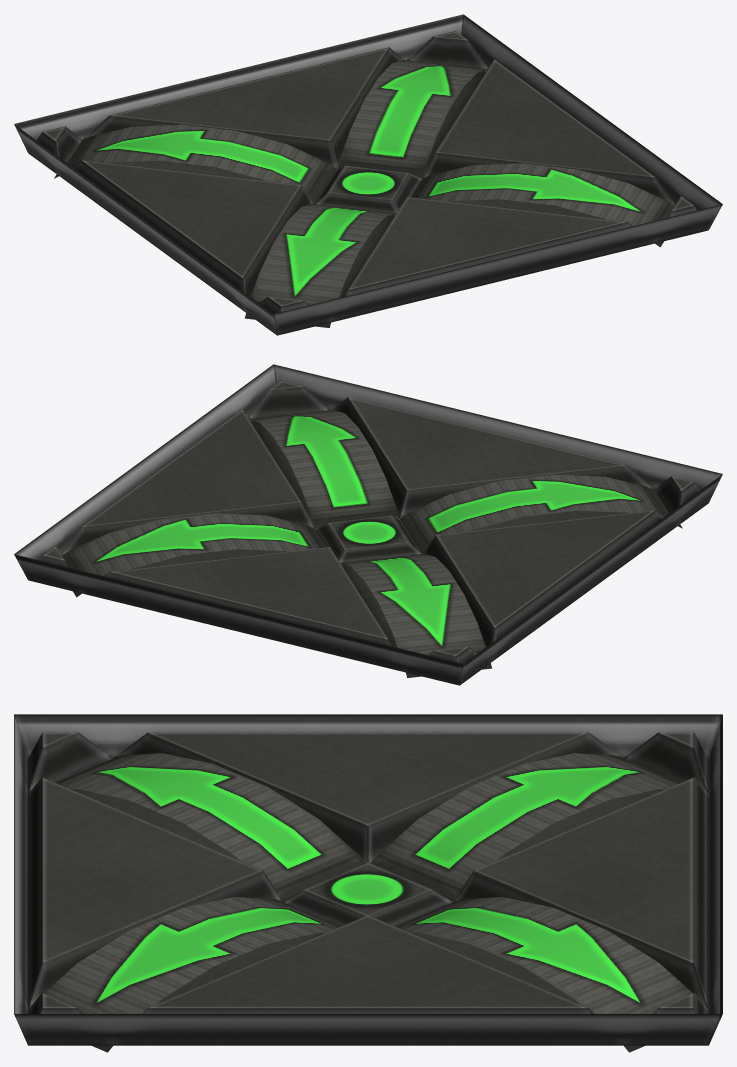
Rendered from bounce.FBX.
3 renders of one model, top to bottom at view 1: azimuth 30°, elevation 25°; view 2: azimuth 150°, elevation 25°; view 3: azimuth 270°, elevation 25°, orthographic. The views are drawn at different scales.
Visible parts, largest first — view 1: Object04; view 2: Object04; view 3: Object04.
Part boxes in pixels (x1,y1,x2,y2): Object04: (14, 14, 722, 335); Object04: (14, 364, 722, 685); Object04: (14, 714, 722, 1052).
Bounding box in the file's own units: 50 × 3.3 × 50.
Materials: 1 (1 with a texture image).
